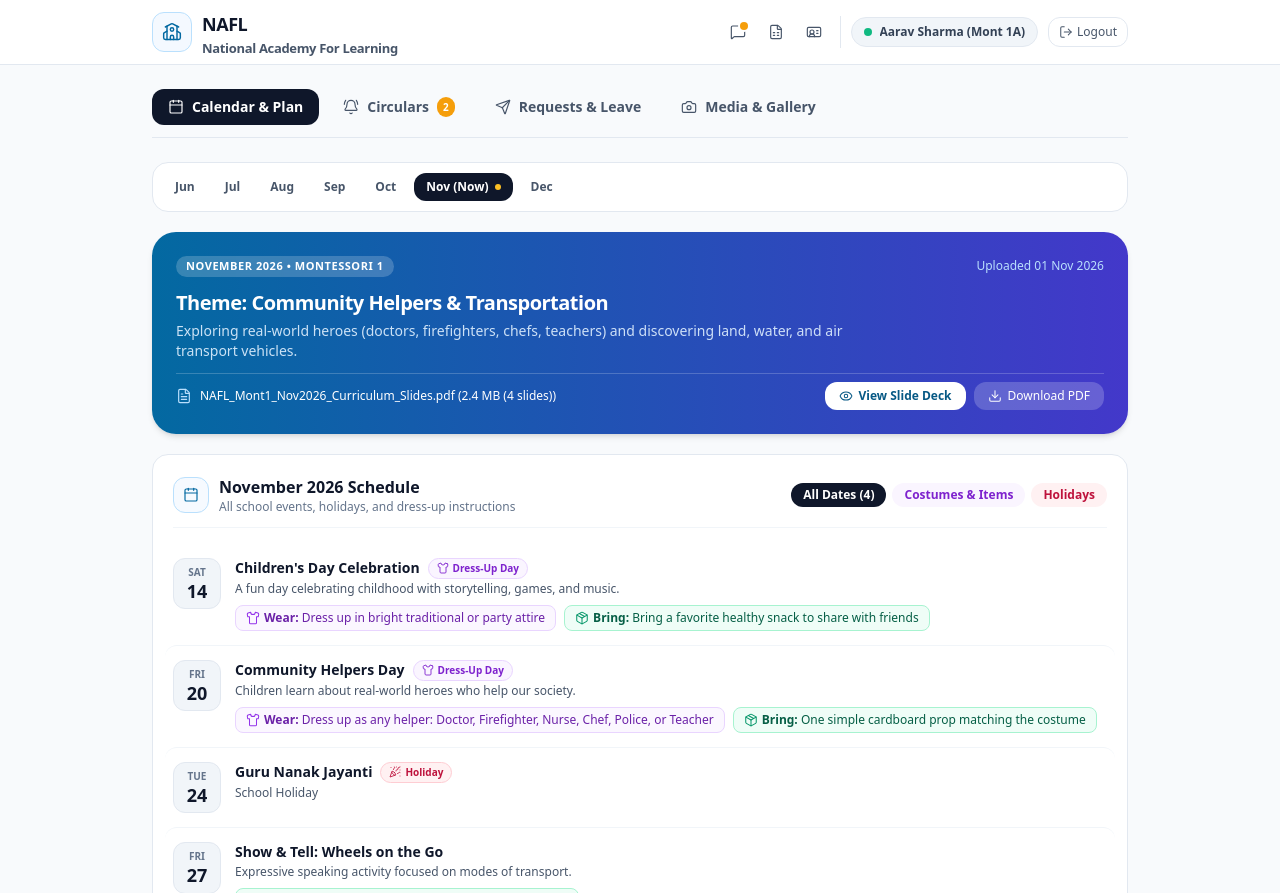
Test: Suite: Teacher Video Upload, Real HTML5 Video Player, Wear/Bring Prompts & PTM Slot Governance › confirms the redundant Teacher Artefact upload banner is completely removed from Teacher view
The width and height of the screenshot is (1280, 893).
// Log out first to access the sign in screen
Click the button titled "Sign Out" at (1088, 32), box [1048, 17, 1128, 47]
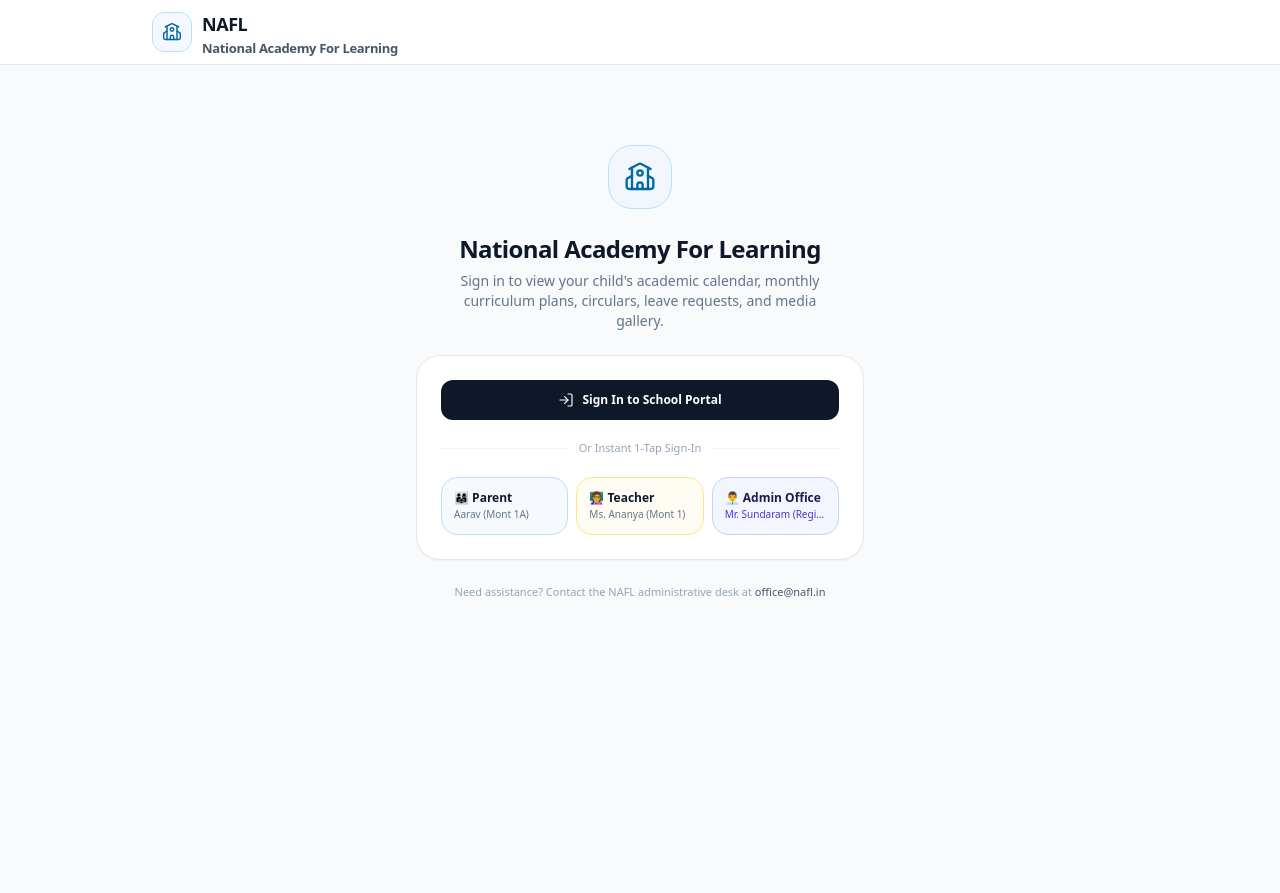
// Instant 1-Tap sign in as Teacher
Click the text "👩‍🏫 Teacher" at (622, 497), box [589, 488, 654, 506]
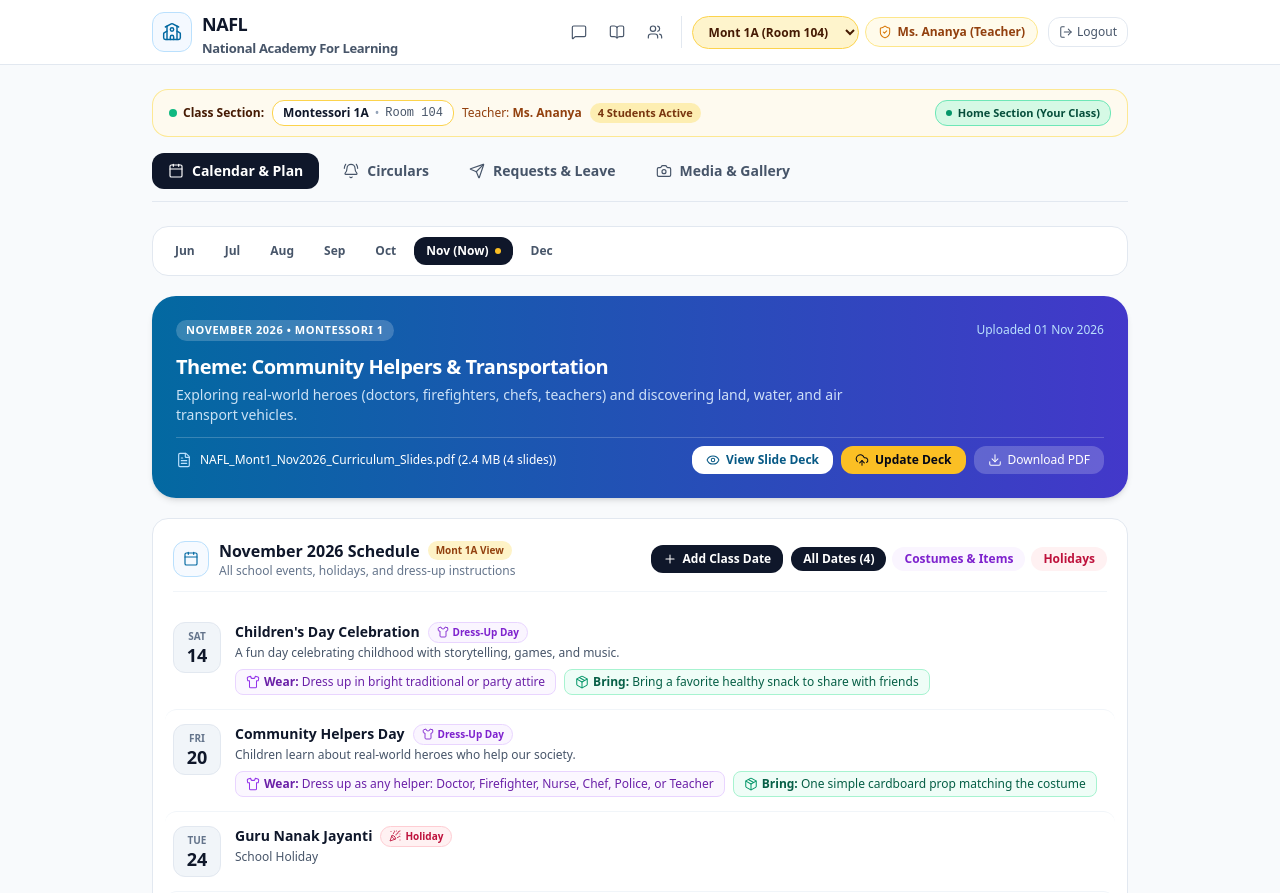
Expected: the text "Ms. Ananya (Teacher)" is shown, [898, 24, 1025, 40]
